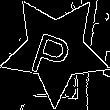P_N: (31, 20, 80, 79)
